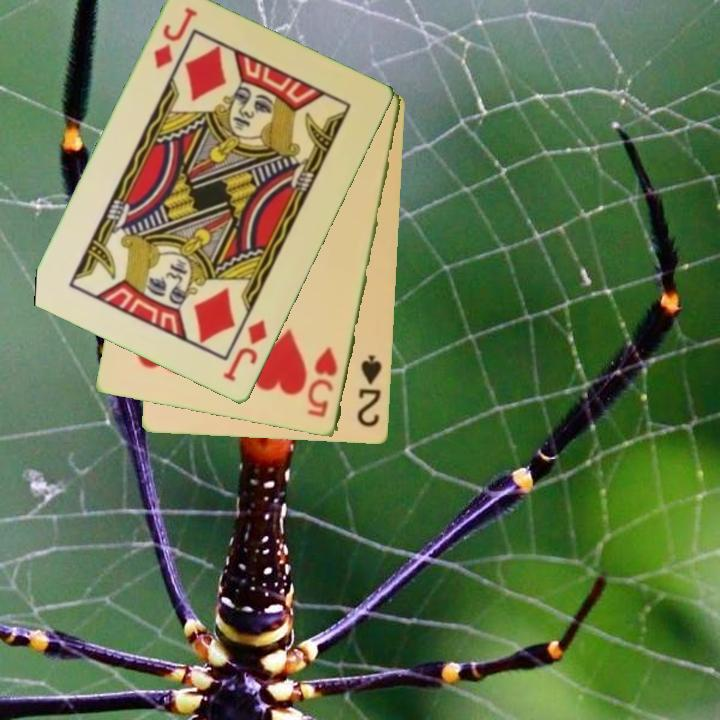2s: (354, 352, 385, 430)
5h: (304, 343, 341, 421)
Jd: (219, 317, 271, 385), (150, 4, 201, 72)
